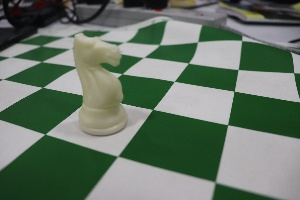white_horse: (58, 26, 135, 146)
